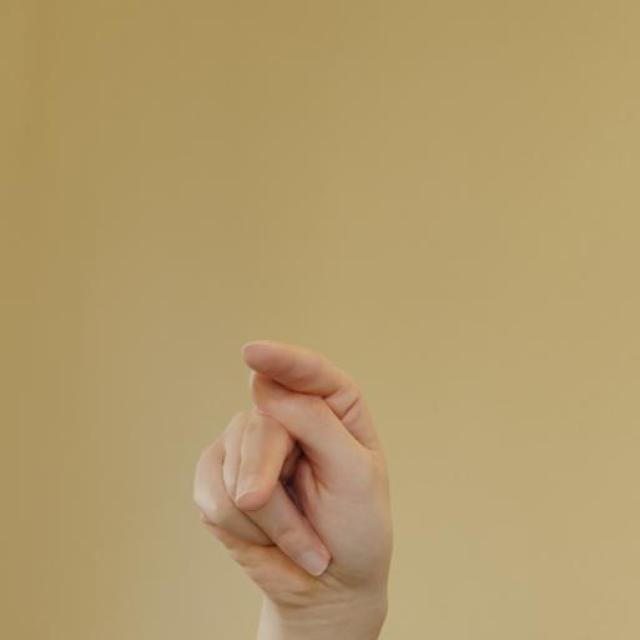P: (190, 335, 399, 594)
